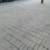others: (11, 2, 46, 46)
